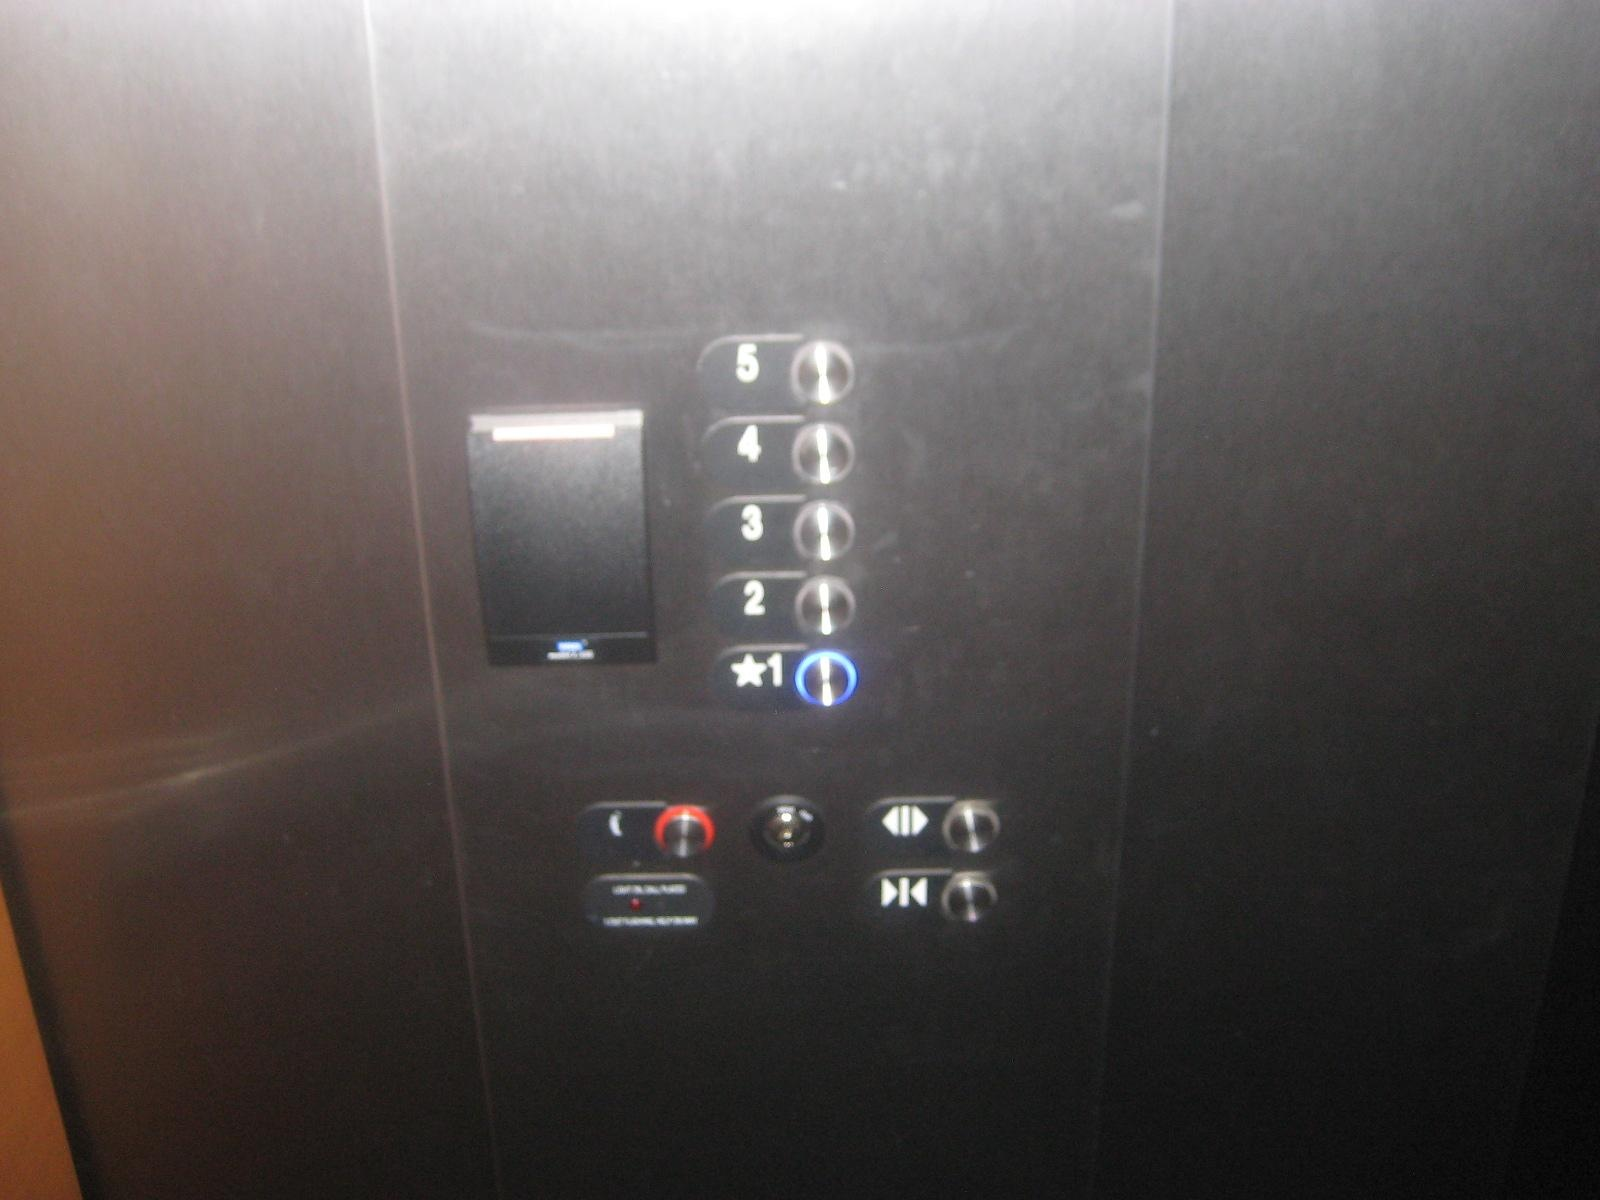2: (711, 568, 857, 643)
3: (706, 492, 857, 566)
4: (700, 413, 862, 492)
5: (698, 326, 857, 416)
call: (572, 795, 716, 863)
close: (860, 866, 1002, 932)
keyhole: (746, 797, 826, 865)
open: (860, 795, 1007, 856)
s1: (713, 643, 862, 711)
